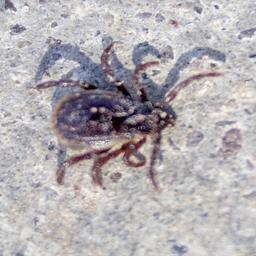Rhipicephalus sanguineus: (34, 43, 223, 189)
